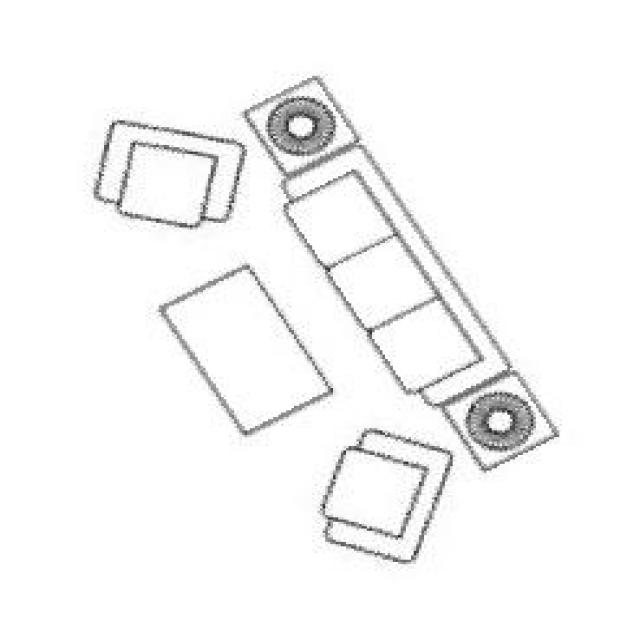sofa: (75, 71, 562, 571)
